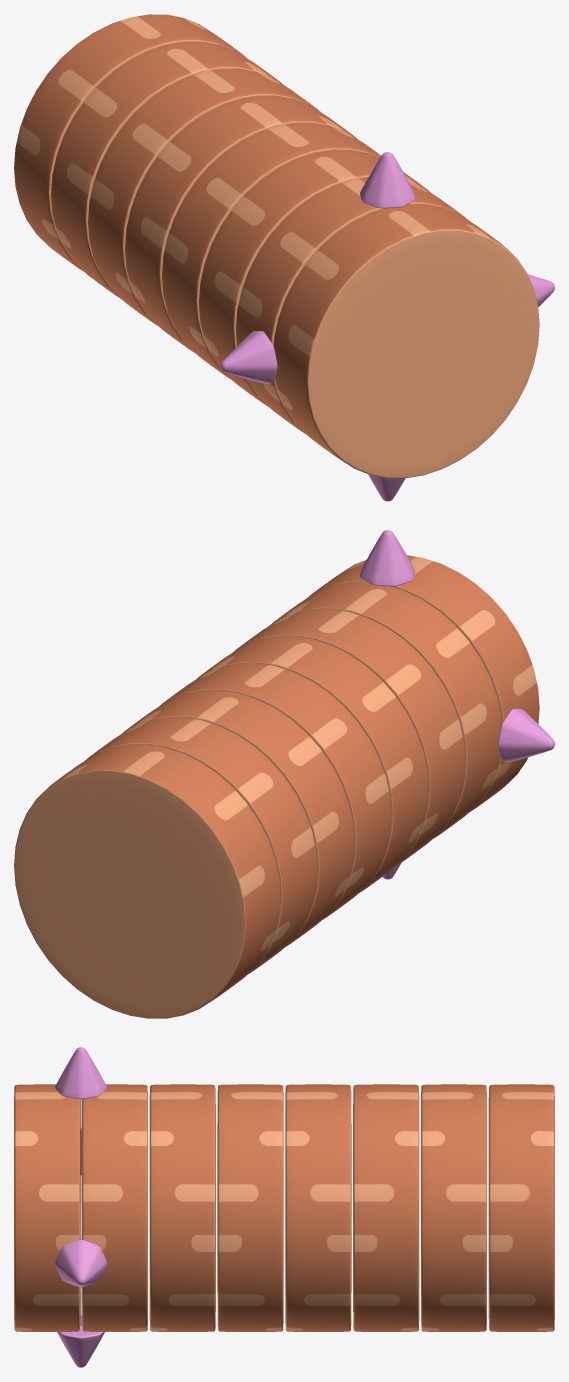
File: cylinder_obstacle.fbx
The picture shows the model from 3 angles, top to bottom: view 1: azimuth 30°, elevation 25°; view 2: azimuth 150°, elevation 25°; view 3: azimuth 270°, elevation 25°; orthographic projection. The views are drawn at different scales.
Parts seen in each view (by area): view 1: cylinder_obstacle_body, spinning_stick_height, spinning_stick_width; view 2: cylinder_obstacle_body, spinning_stick_height, spinning_stick_width; view 3: cylinder_obstacle_body, spinning_stick_height, spinning_stick_width.
Boxes of the visible parts, bbox=[...] form: cylinder_obstacle_body: bbox=[14, 14, 539, 478]; spinning_stick_height: bbox=[360, 152, 415, 501]; spinning_stick_width: bbox=[220, 274, 554, 383]; cylinder_obstacle_body: bbox=[14, 555, 539, 1018]; spinning_stick_height: bbox=[360, 530, 415, 879]; spinning_stick_width: bbox=[498, 709, 554, 761]; cylinder_obstacle_body: bbox=[14, 1084, 554, 1331]; spinning_stick_height: bbox=[55, 1047, 107, 1367]; spinning_stick_width: bbox=[55, 1127, 107, 1287].
Size of the model in its own units: 49.37 by 49.37 by 75.73.
3 materials, 1 textured.
